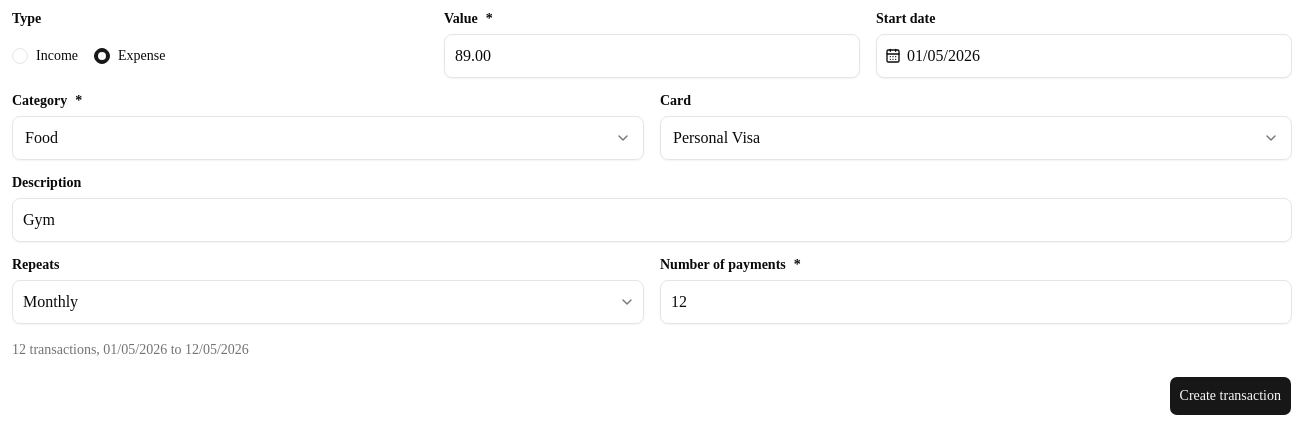
InstallmentForm › shows no preview until the count is valid
Step 1. Clear the number field labelled "Number of payments *" → x=976, y=302, box [660,280,1292,324]
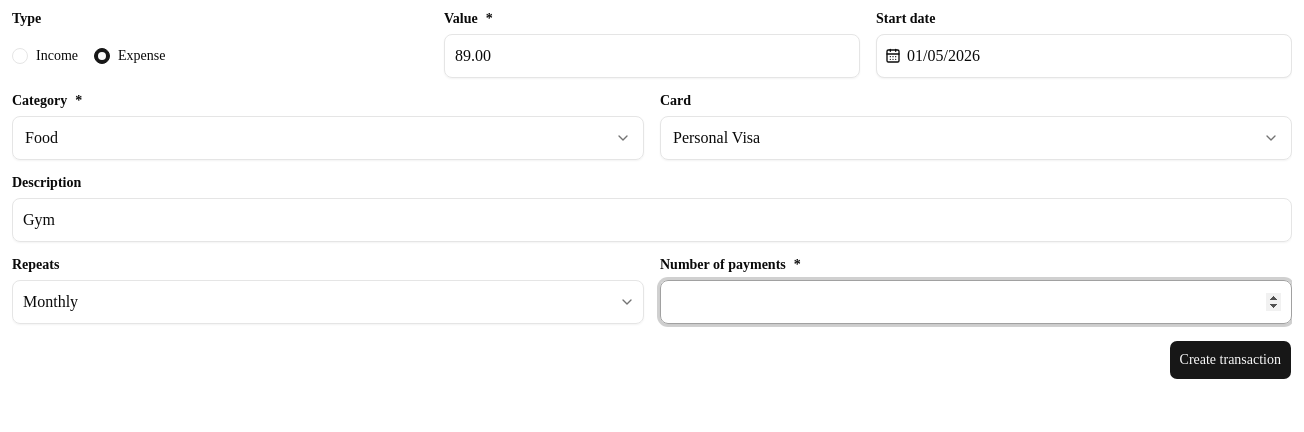
Check: the text "transactions," is gone
